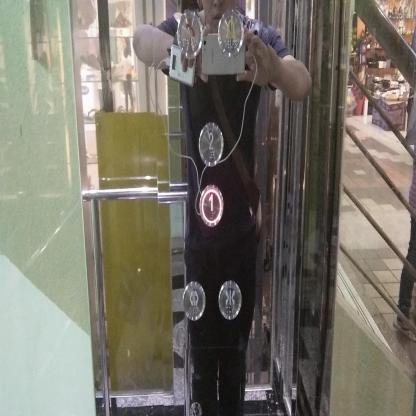1: (199, 183, 224, 228)
2: (198, 119, 224, 168)
alarm: (218, 7, 244, 57)
call: (176, 10, 203, 60)
close: (218, 278, 242, 322)
open: (182, 278, 206, 323)
